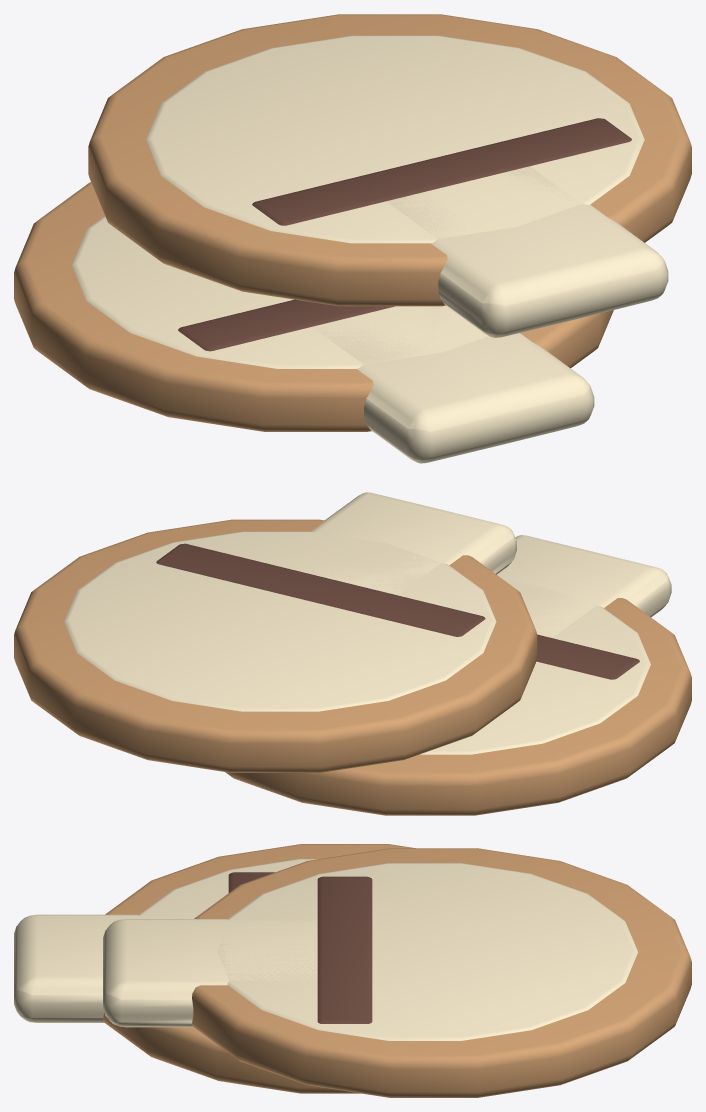
File: mushroom-half.glb
3 renders of one model, top to bottom at view 1: azimuth 30°, elevation 25°; view 2: azimuth 150°, elevation 25°; view 3: azimuth 270°, elevation 25°, orthographic. The views are drawn at different scales.
Visible parts, largest first — view 1: MushSliceCapRim_0; view 2: MushSliceCapRim_0; view 3: MushSliceCapRim_0.
Boxes of the visible parts, x1,y1,x2,y2 form: MushSliceCapRim_0: (14, 14, 691, 463); MushSliceCapRim_0: (14, 492, 691, 815); MushSliceCapRim_0: (14, 844, 691, 1097).
Bounding box in the file's own units: 0.3556 × 0.06 × 0.3809.
